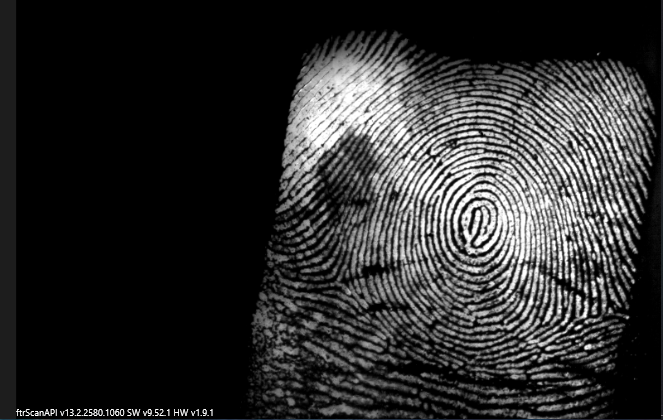deltas: (550, 288, 595, 339), (314, 257, 361, 303)
nucleo: (457, 195, 501, 250)
